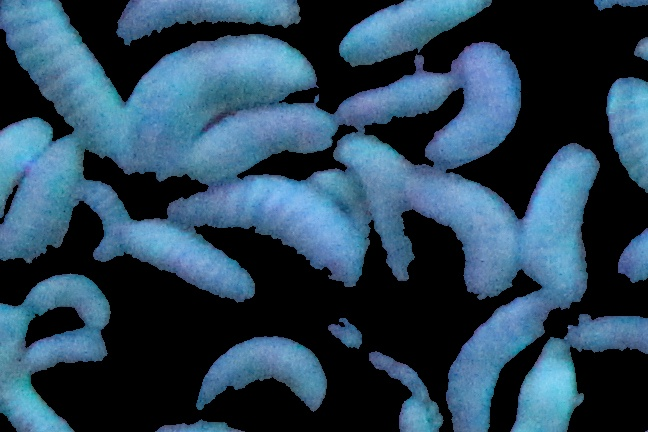larvae: (174, 171, 361, 284), (3, 1, 130, 158), (444, 293, 558, 430), (419, 163, 524, 295), (335, 129, 419, 284), (131, 35, 316, 105), (524, 143, 604, 303), (424, 40, 522, 162), (191, 103, 336, 184), (132, 217, 260, 307), (193, 334, 335, 413), (1, 135, 84, 262), (338, 1, 494, 65), (117, 1, 305, 44), (327, 76, 451, 132), (515, 338, 582, 432), (602, 72, 648, 201), (15, 273, 112, 334), (1, 367, 92, 432), (1, 118, 52, 222), (28, 332, 106, 385), (88, 179, 130, 267)
